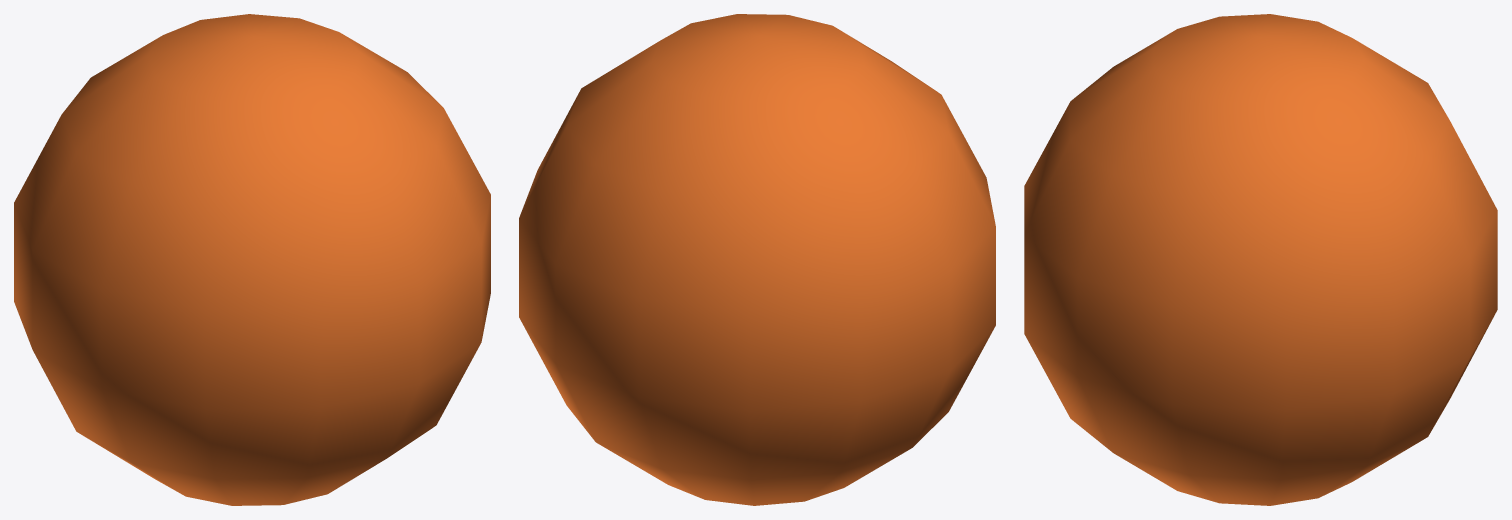
Rendered from Buñuelo final.fbx.
The picture shows the model from 3 angles, left to right: view 1: azimuth 30°, elevation 25°; view 2: azimuth 150°, elevation 25°; view 3: azimuth 270°, elevation 25°; orthographic projection.
Parts seen in each view (by area): view 1: Sphere.002; view 2: Sphere.002; view 3: Sphere.002.
Boxes of the visible parts, box(x1,y1,x2,y2) form: Sphere.002: box(14, 14, 490, 505); Sphere.002: box(519, 14, 995, 505); Sphere.002: box(1024, 14, 1497, 505).
Bounding box in the file's own units: 194 × 200 × 192.
